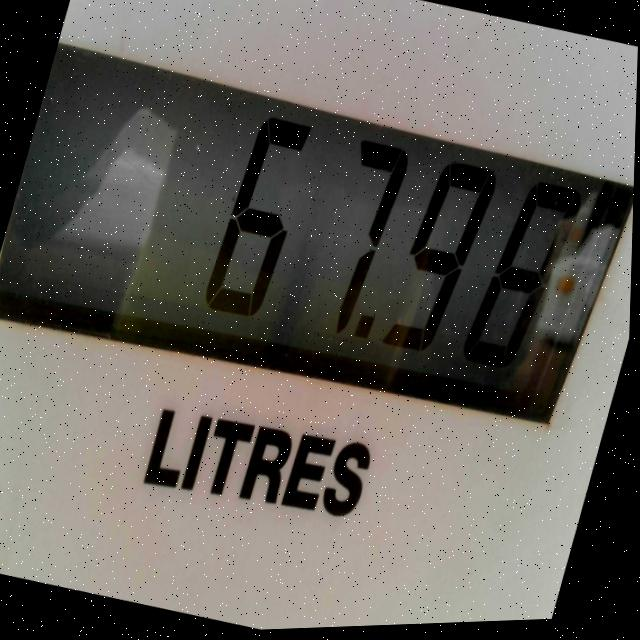.: (355, 309, 383, 352)
6: (188, 95, 334, 363)
7: (298, 125, 418, 363)
8: (450, 170, 600, 417)
9: (366, 151, 499, 414)
